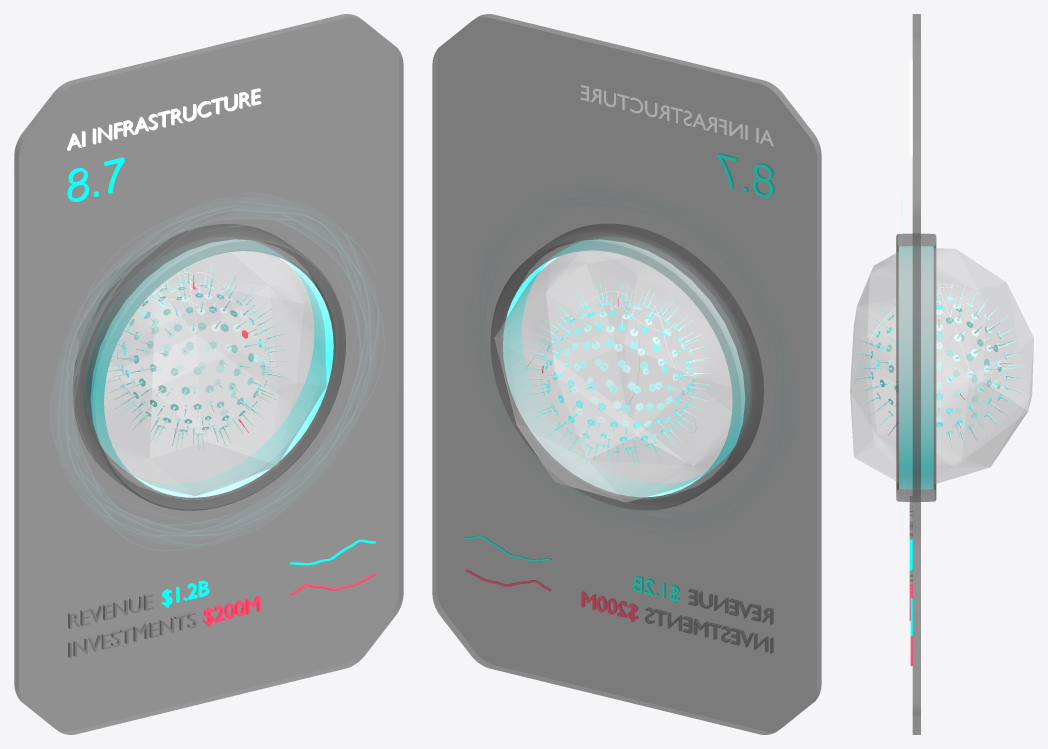
3 renders of one model, left to right at view 1: azimuth 30°, elevation 25°; view 2: azimuth 150°, elevation 25°; view 3: azimuth 270°, elevation 25°, orthographic. The views are drawn at different scales.
Visible parts, largest first — view 1: baseGreen, Glass, Corner, neon-corner, baseCorner, neon-sphere.001, neon-sphereBase2, Text, spike.1379, Text.004, neon-rimGreen, Text.002 (+2 smaller); view 2: baseGreen, Glass, Corner, neon-corner, baseCorner, neon-sphere.001, Text, Text.004, Text.002, neon-text1, neon-text3; view 3: Glass, Corner, neon-corner, baseCorner, neon-sphere.001, neon-sphereBase2, spike.1379, Text.
Boxes of the visible parts, x1,y1,x2,y2 form: baseGreen: (14,14,403,734); Glass: (104,251,326,495); Corner: (74,224,345,510); neon-corner: (85,237,333,497); baseCorner: (14,14,403,734); neon-sphere.001: (106,266,286,450); neon-sphereBase2: (117,282,269,434); Text: (67,88,261,150); spike.1379: (106,266,286,450); Text.004: (68,611,196,657); neon-rimGreen: (66,206,370,536); Text.002: (68,593,153,628); baseGreen: (432,14,821,734); Glass: (494,251,732,502); Corner: (490,224,763,510); neon-corner: (503,237,750,497); baseCorner: (432,14,821,734); neon-sphere.001: (524,283,711,469); Text: (580,84,774,146); Text.004: (645,607,773,653); Text.002: (688,589,773,624); neon-text1: (717,153,774,197); neon-text3: (581,591,637,622); Glass: (850,248,1033,483); Corner: (896,233,936,501); neon-corner: (899,246,933,489); baseCorner: (912,14,920,734); neon-sphere.001: (853,282,1024,451); neon-sphereBase2: (871,298,1006,434); spike.1379: (857,297,1021,447); Text: (909,59,912,156).
Size of the model in its own units: 1.47 by 2.38 by 0.666.
Materials: 10 (1 with a texture image).
